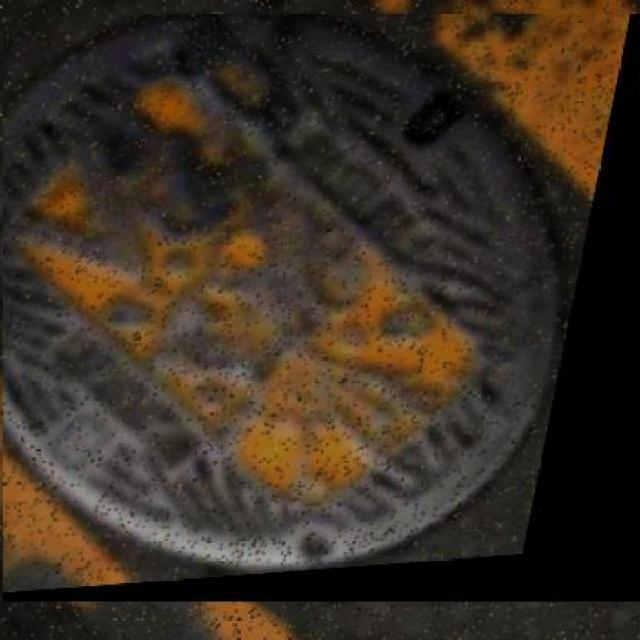Manhole: (3, 14, 640, 602)
